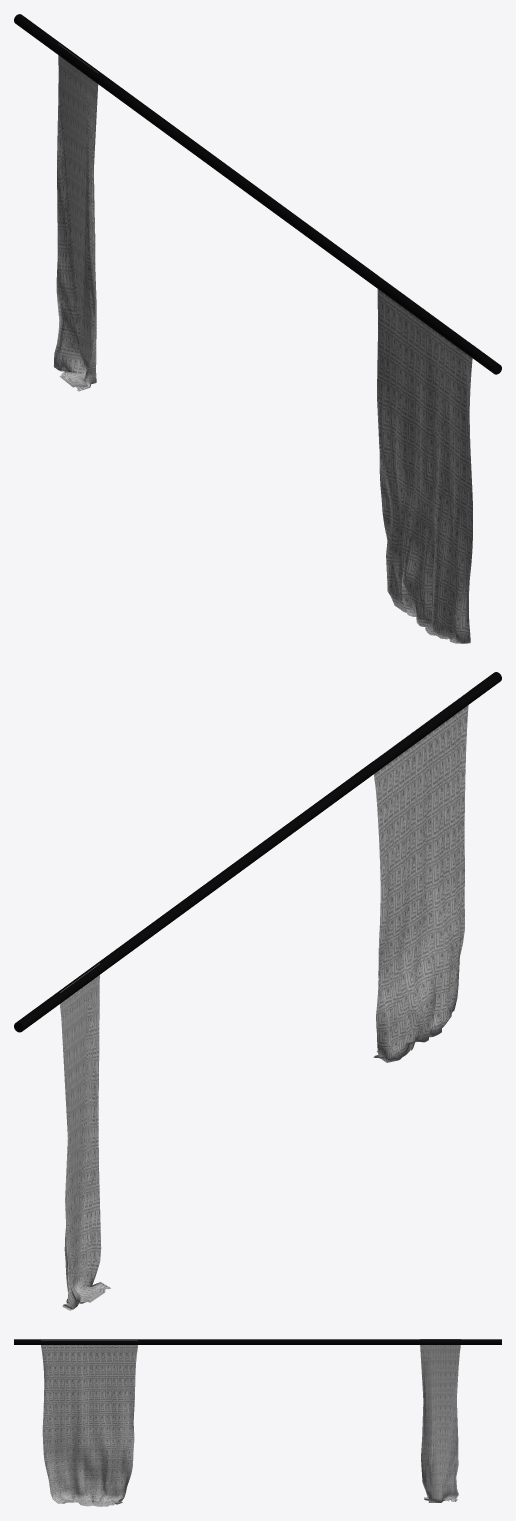
The model's file is rideaux.glb.
3 renders of one model, top to bottom at view 1: azimuth 30°, elevation 25°; view 2: azimuth 150°, elevation 25°; view 3: azimuth 270°, elevation 25°, orthographic. The views are drawn at different scales.
Parts seen in each view (by area): view 1: Plane, Plane.001, Barre rideau; view 2: Plane, Plane.001, Barre rideau; view 3: Plane, Plane.001, Barre rideau.
Part boxes in pixels (x1,y1,x2,y2): Plane: (377, 275, 472, 643); Plane.001: (53, 44, 98, 391); Barre rideau: (14, 14, 501, 374); Plane: (373, 691, 468, 1062); Plane.001: (60, 963, 110, 1310); Barre rideau: (14, 672, 501, 1032); Plane: (41, 1340, 137, 1506); Plane.001: (420, 1339, 460, 1502); Barre rideau: (14, 1339, 501, 1344).
Size of the model in its own units: 2.78 by 18.58 by 50.62.
2 materials, 1 textured.
